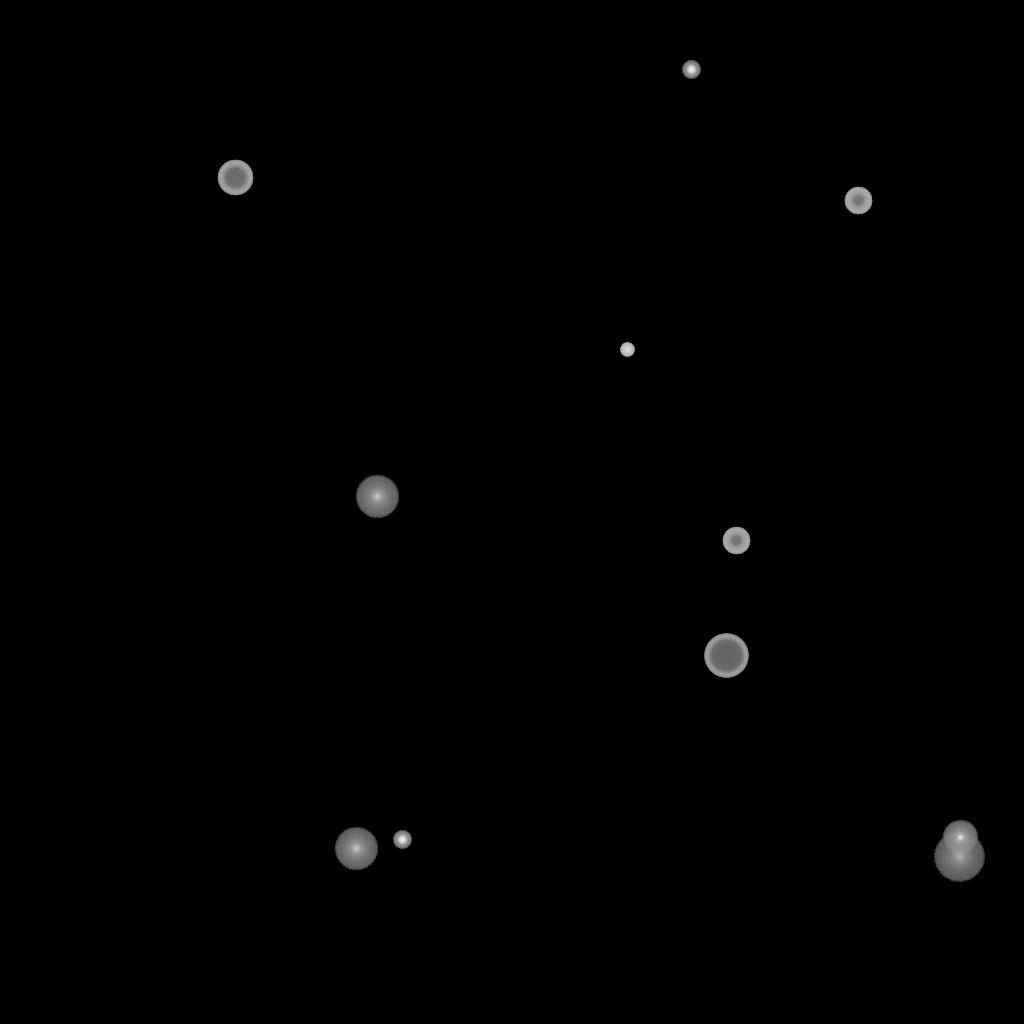depth:-20: (393, 831, 411, 849), (682, 61, 700, 79)
depth:-30: (620, 343, 634, 357)
depth:-50: (844, 187, 872, 215), (722, 527, 750, 555)
depth:-60: (217, 160, 253, 196)
depth:-70: (704, 634, 748, 678)
depth:0: (942, 820, 978, 856)
depth:10: (355, 475, 399, 519), (334, 827, 378, 871)
depth:20: (933, 832, 985, 882)
